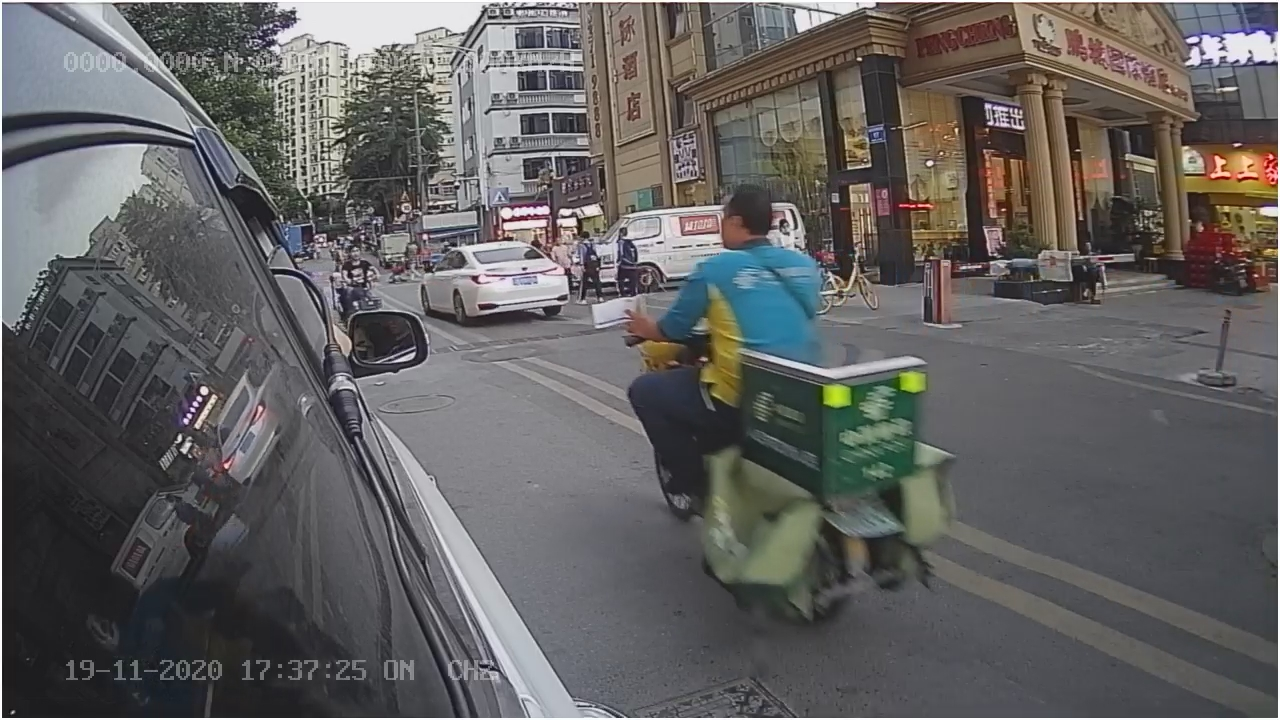person: (666, 187, 825, 326)
